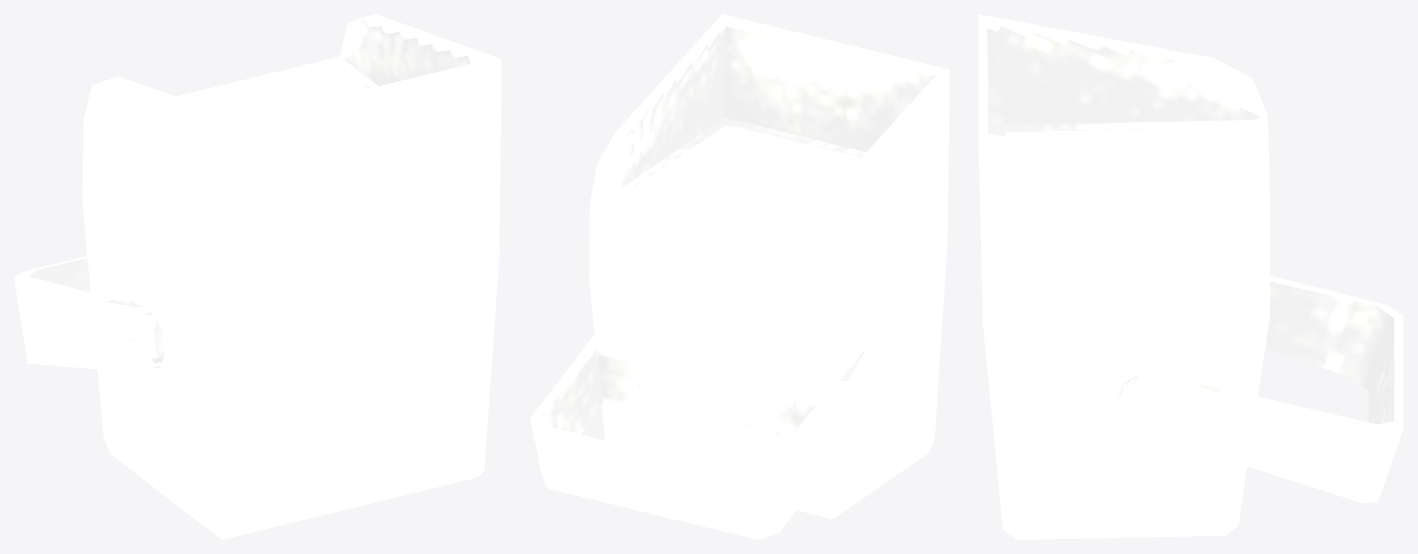
Rendered from sm0183_decolight00.fbx.
3 views of the same model, side by side, from view 1: azimuth 30°, elevation 25°; view 2: azimuth 150°, elevation 25°; view 3: azimuth 270°, elevation 25° (orthographic). The views are drawn at different scales.
Visible parts, largest first — view 1: LOD_1_Group_0_Sub_1__sm0183_decolight00_A_Mat; view 2: LOD_1_Group_0_Sub_1__sm0183_decolight00_A_Mat; view 3: LOD_1_Group_0_Sub_1__sm0183_decolight00_A_Mat.
Boxes of the visible parts, x1,y1,x2,y2 form: LOD_1_Group_0_Sub_1__sm0183_decolight00_A_Mat: (14,14,501,539); LOD_1_Group_0_Sub_1__sm0183_decolight00_A_Mat: (530,14,949,539); LOD_1_Group_0_Sub_1__sm0183_decolight00_A_Mat: (978,14,1403,539).
Size of the model in its own units: 21.39 by 30.12 by 28.55.
